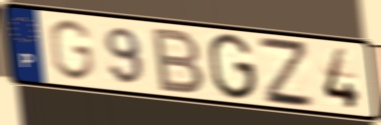4: (321, 45, 362, 111)
9: (102, 25, 147, 86)
B: (151, 25, 208, 96)
G: (207, 31, 259, 102), (46, 17, 97, 83)
Z: (255, 34, 318, 110)
